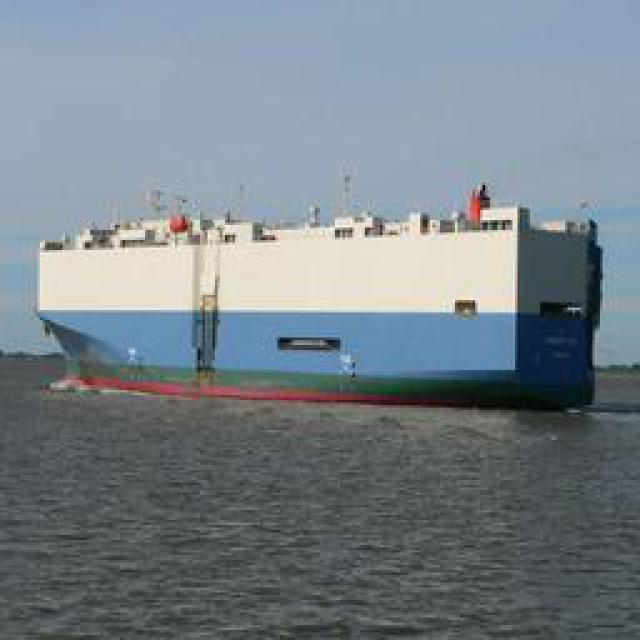Ship: (27, 162, 590, 395)
